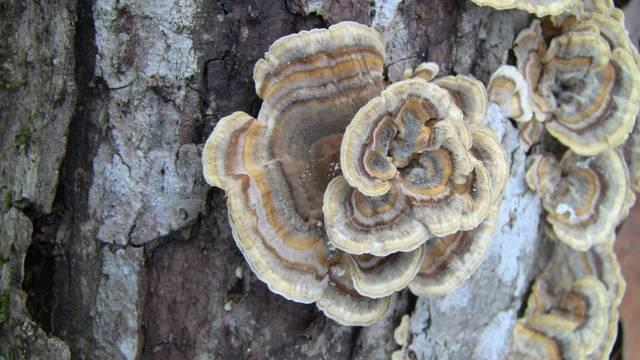poisonous_mushroom: (200, 19, 510, 327), (468, 0, 640, 350), (320, 61, 509, 301)
